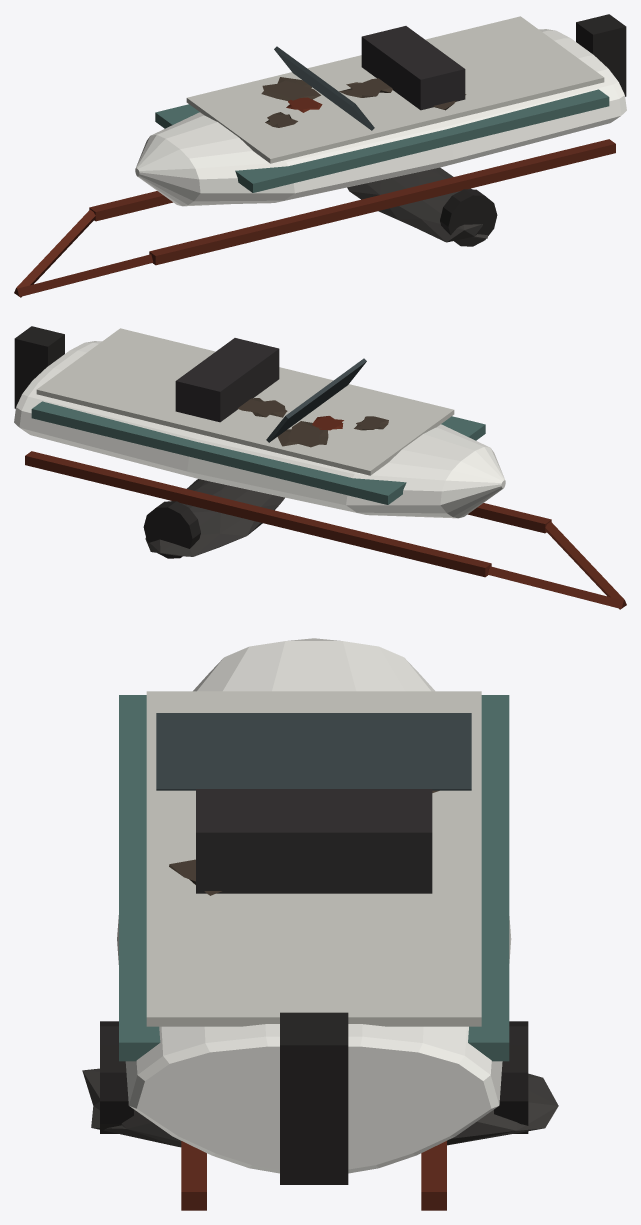
File: marina_bass_boat.glb
3 renders of one model, top to bottom at view 1: azimuth 30°, elevation 25°; view 2: azimuth 150°, elevation 25°; view 3: azimuth 270°, elevation 25°, orthographic. The views are drawn at different scales.
Parts seen in each view (by area): view 1: marina_bass_boat; view 2: marina_bass_boat; view 3: marina_bass_boat.
Part boxes in pixels (<box>): marina_bass_boat: <box>14,14,626,297</box>; marina_bass_boat: <box>14,326,626,609</box>; marina_bass_boat: <box>82,638,558,1210</box>.
Size of the model in its own units: 8.1 by 2.03 by 2.78.
